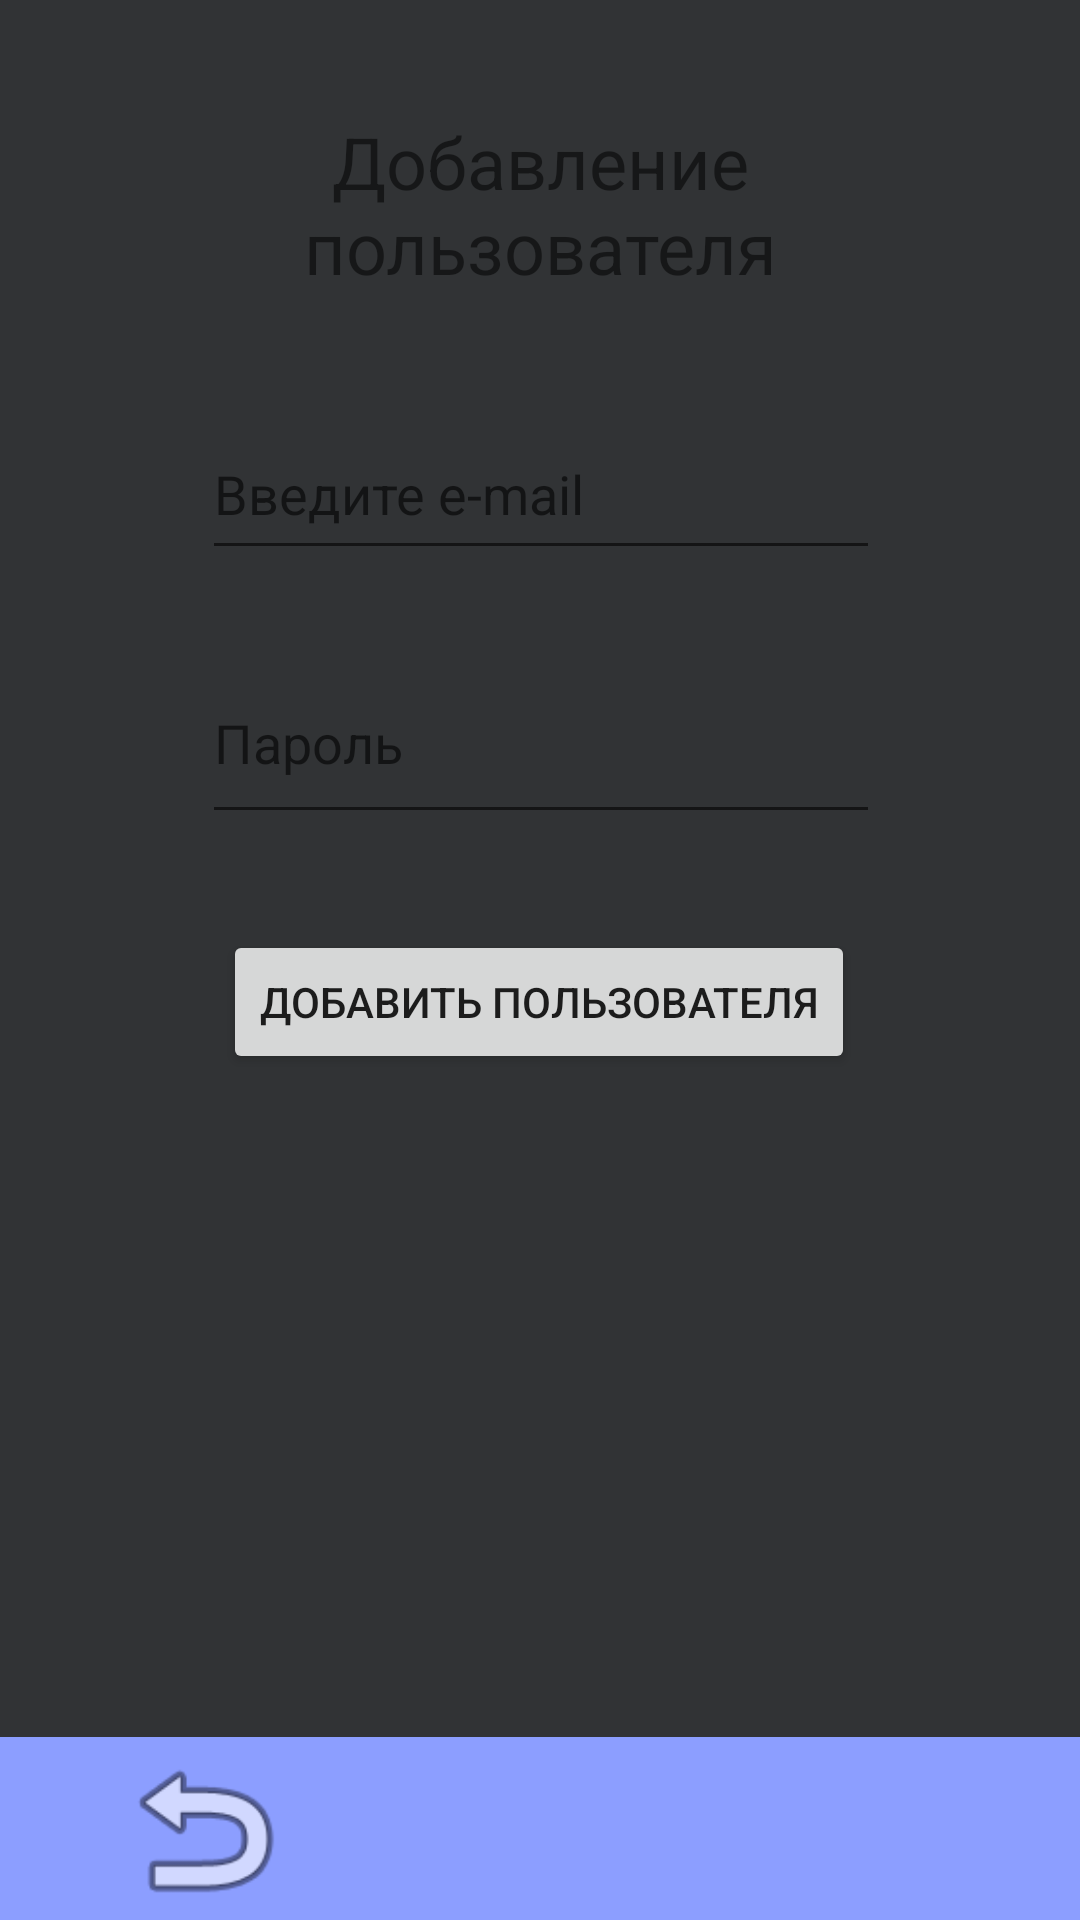

Icon bounding boxes for this 1080×1920 phone screenshot, format (left=x1, top=y1, right=x2, bottom=y2):
revert: (left=139, top=1770, right=274, bottom=1892)
